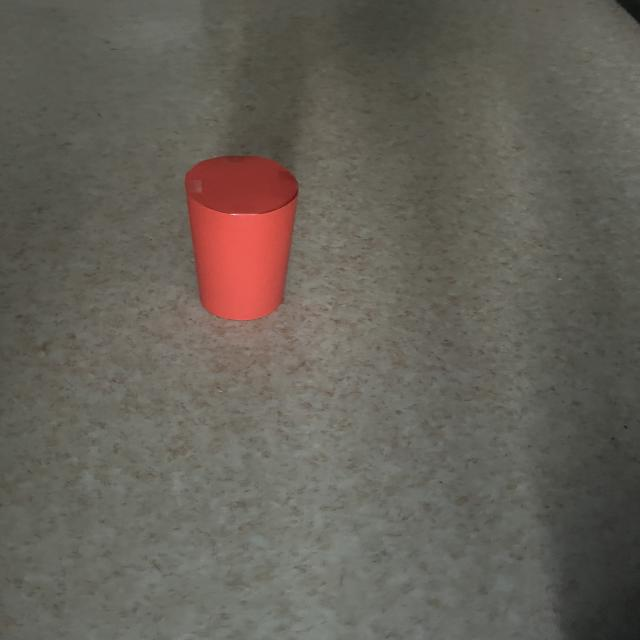przeszkoda: (184, 156, 298, 320)
